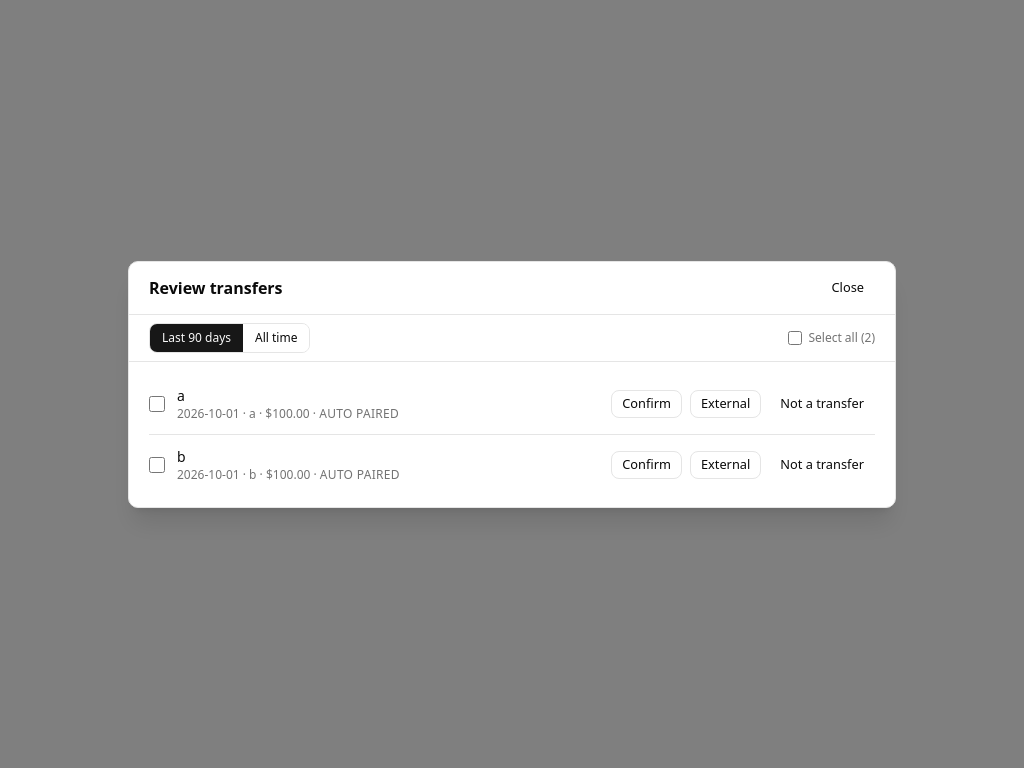
Test case: shows refresh failures and releases busy state
Click the checkbox labelled "Select all (2)" at (795, 338), box [788,330,802,344]
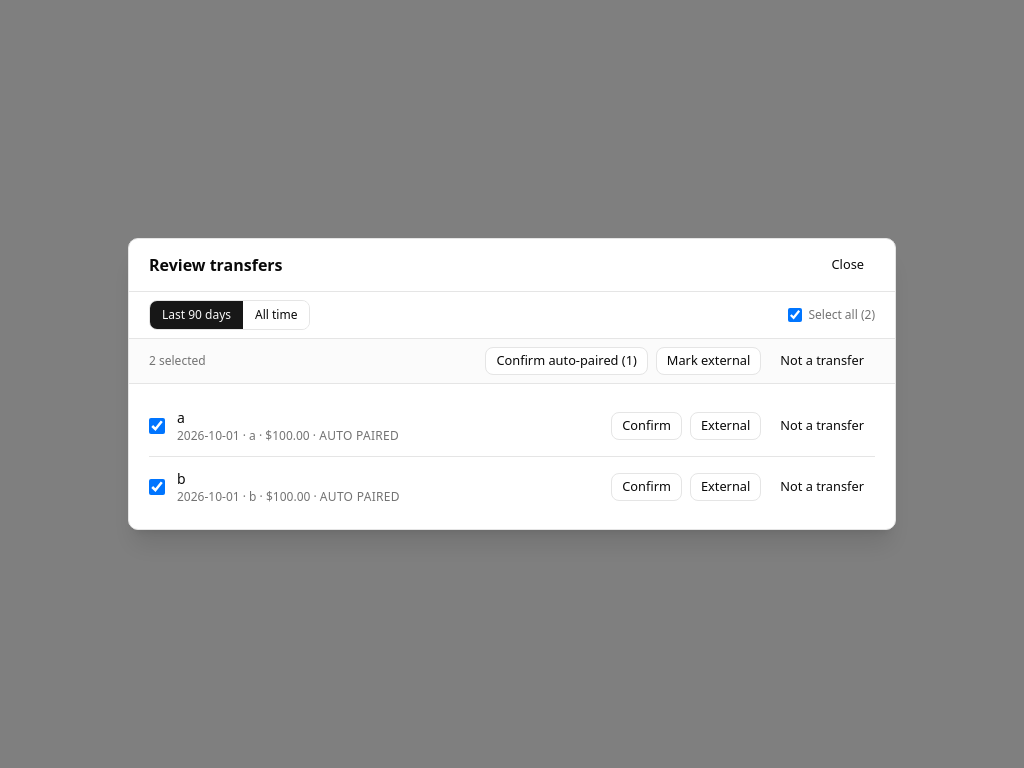
Click the button "Confirm auto-paired (1)" at (567, 361), box [485,347,648,375]
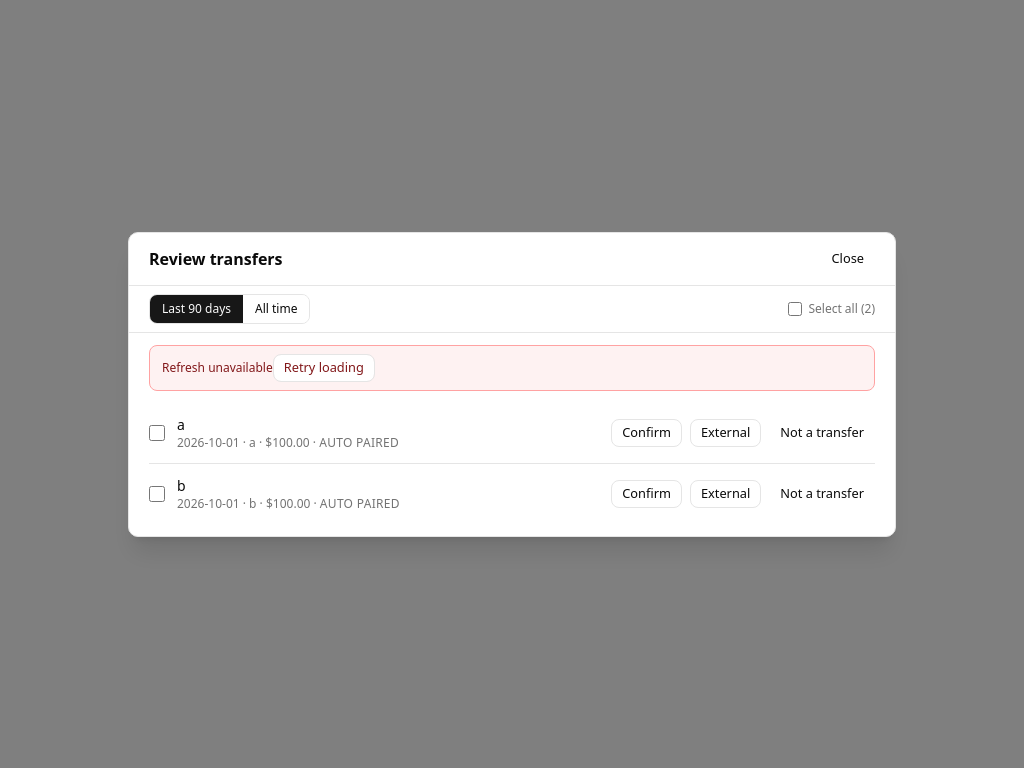
Now the message shows "Refresh unavailable", box [162,359,273,376]
Now the button "Retry loading" is enabled, box [273,354,375,382]
